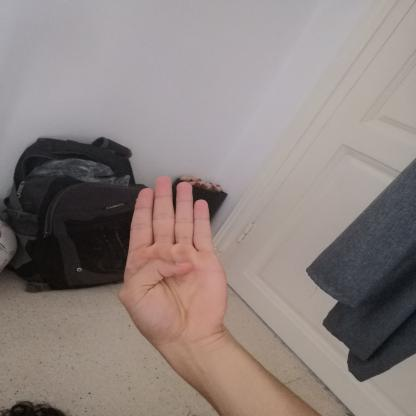KAAF: (102, 166, 243, 358)
